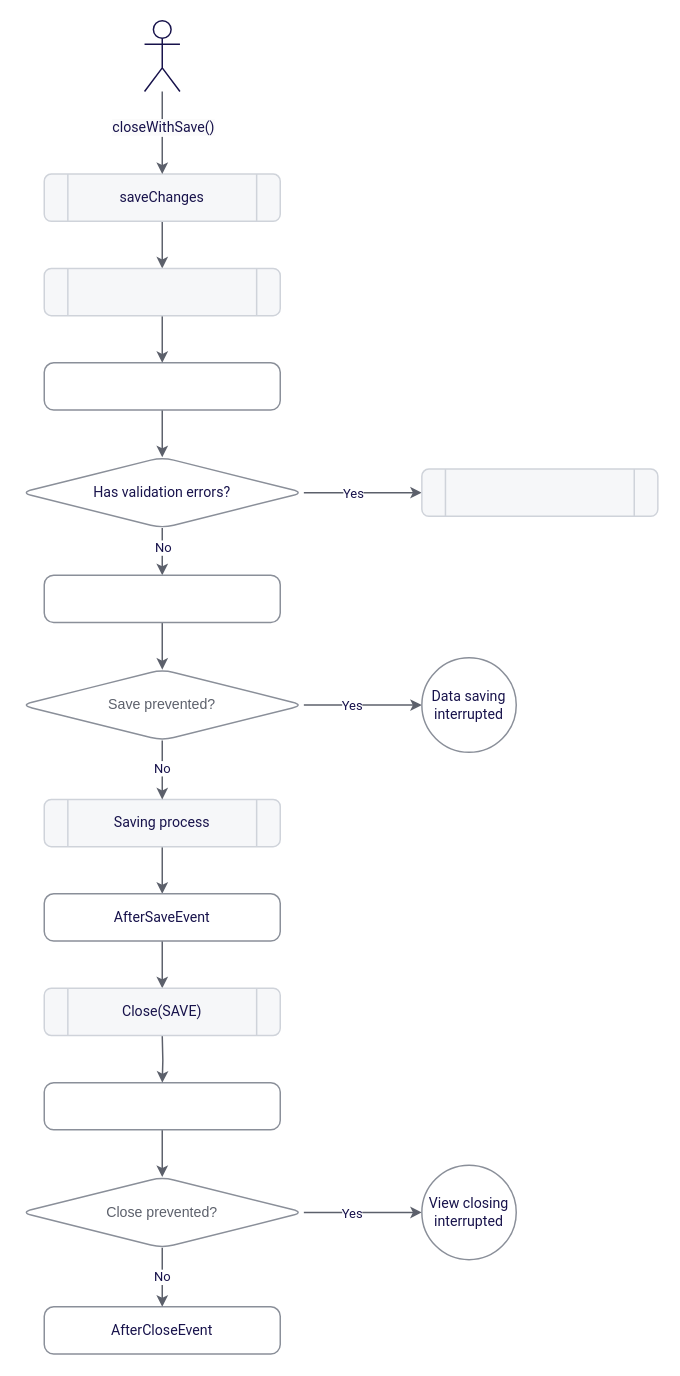
Image size: 680x1376. Some labels were removed from this diagram. Each missing label, with the centre of its shape:
"BeforeCloseEvent" belongs at (x=161, y=1105).
"BeforeSaveEvent" belongs at (x=161, y=598).
"Show validation errors" belongs at (x=539, y=492).
"validateView" belongs at (x=161, y=291).
"ValidationEvent" belongs at (x=161, y=386).
